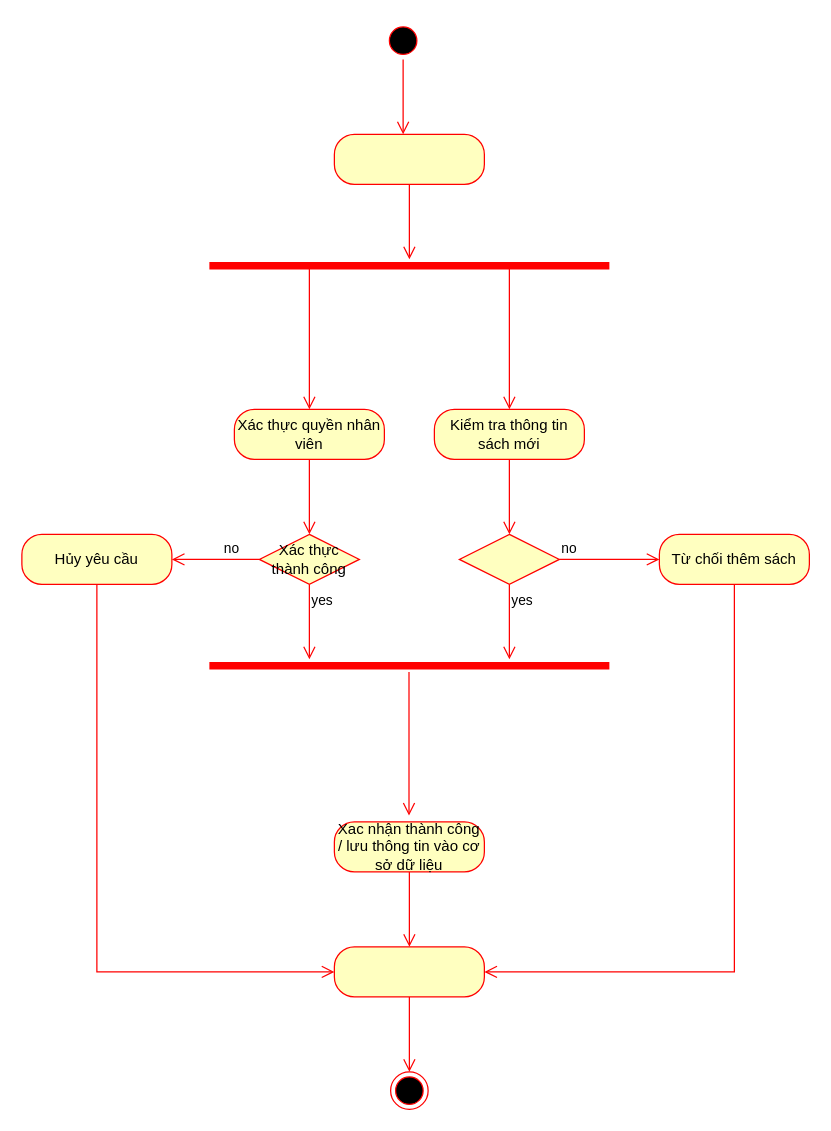
This 831x1131 diagram has some shape labels left out. The centre of each missing label's shape, as x and y in pixels:
Gửi thông báo ra màn hình: point (408, 971)
Nhận lệnh thêm sách: point (408, 158)
Thông tin hợp lệ: point (508, 558)
